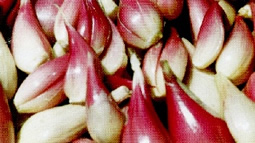onion: (158, 58, 234, 142), (82, 48, 127, 142), (214, 72, 254, 142)
